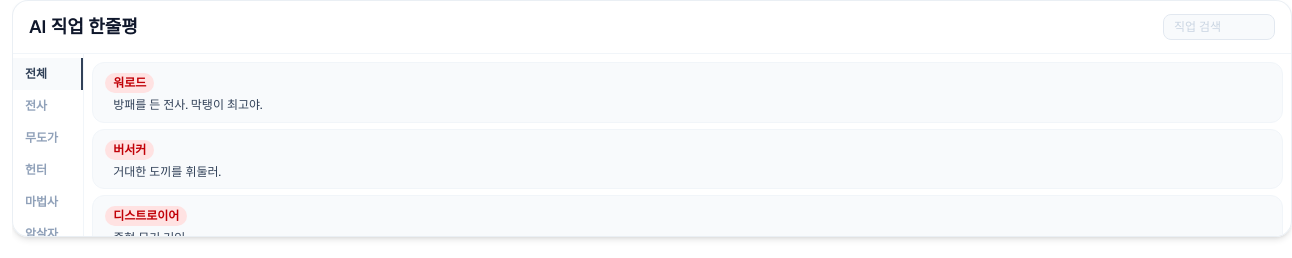
ClassSummaryList › '무도가' 탭 클릭 시 무도가 계열 직업만 표시된다
This screenshot has width=1292, height=258.
Click the button "무도가": (48, 138) [13, 122, 83, 154]
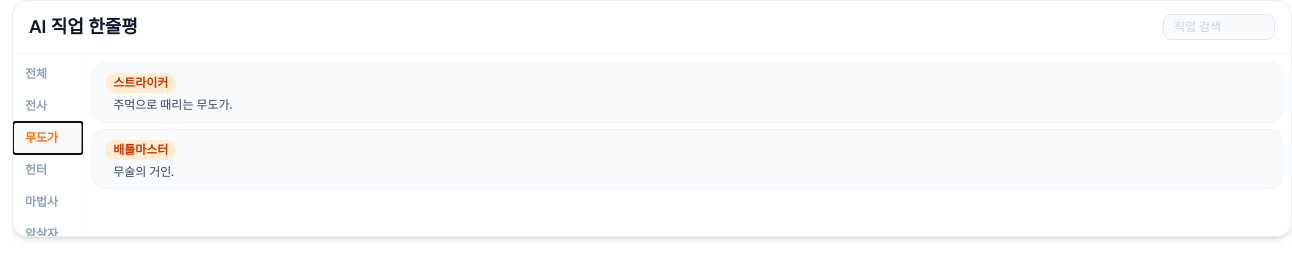
Now the text "스트라이커" is shown, box [105, 73, 176, 93]
Now the text "배틀마스터" is shown, box [105, 140, 176, 160]
Now the text "워로드" is gone
